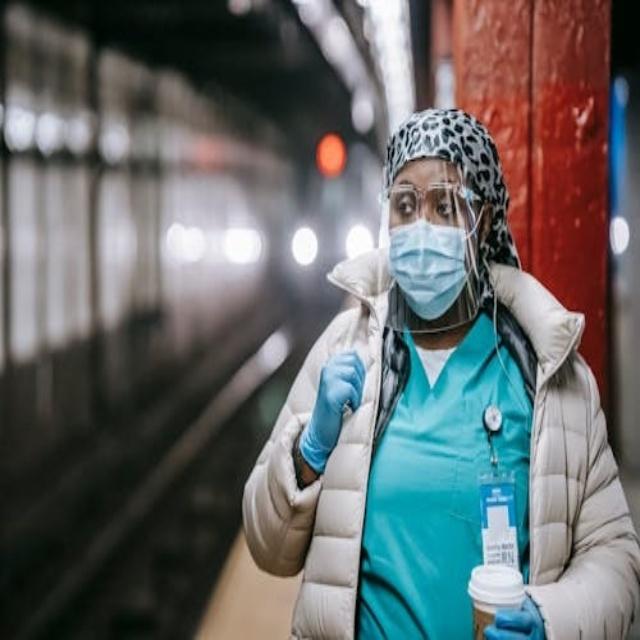Gafas: (382, 179, 482, 228)
Guantes: (299, 348, 366, 474), (484, 592, 546, 640)
Mascara: (388, 212, 475, 317)
